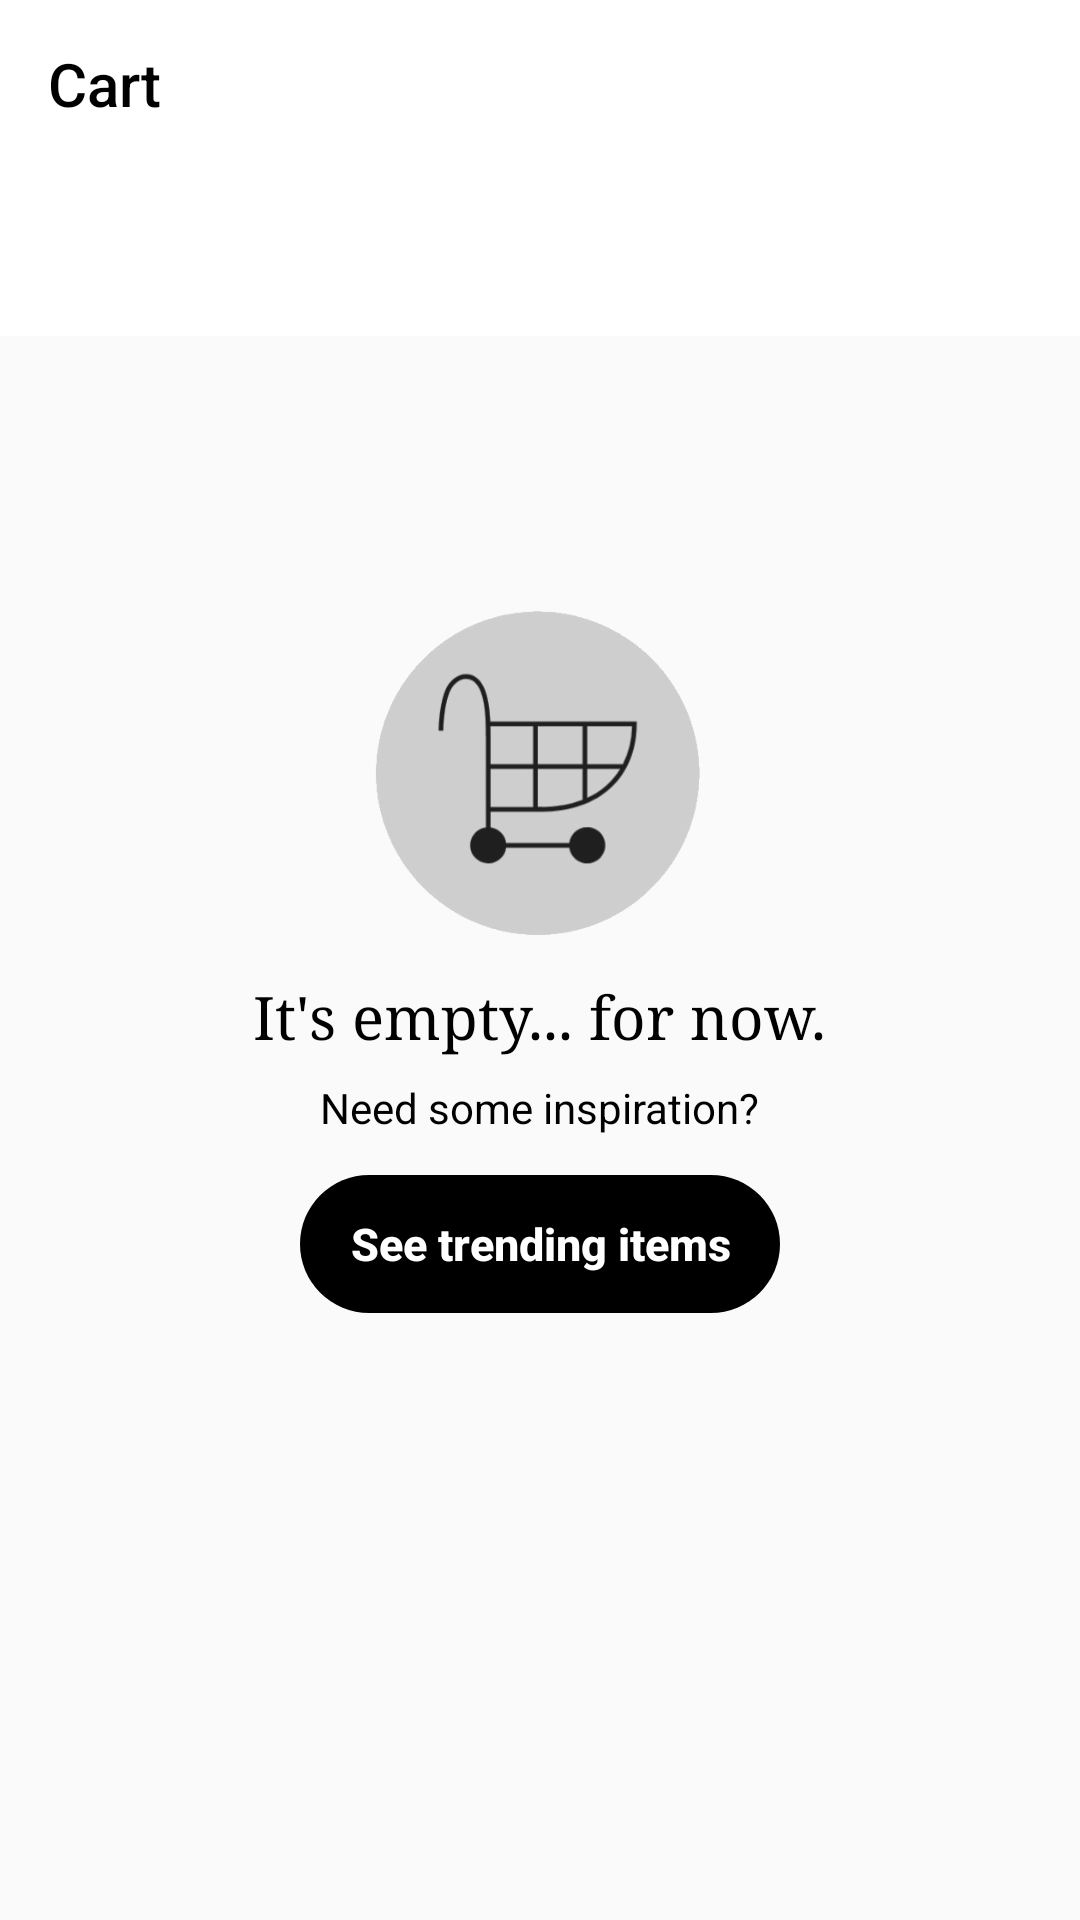

Named icons in this screenshot (1080w x 1920h) and their bounding boxes, detection(x1, y1, x2, y2):
etsycart: detection(376, 611, 700, 935)
